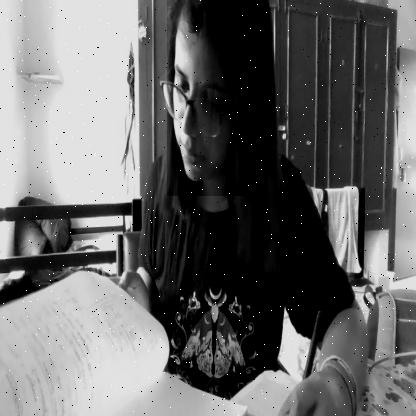Distracted: (167, 0, 262, 196)
